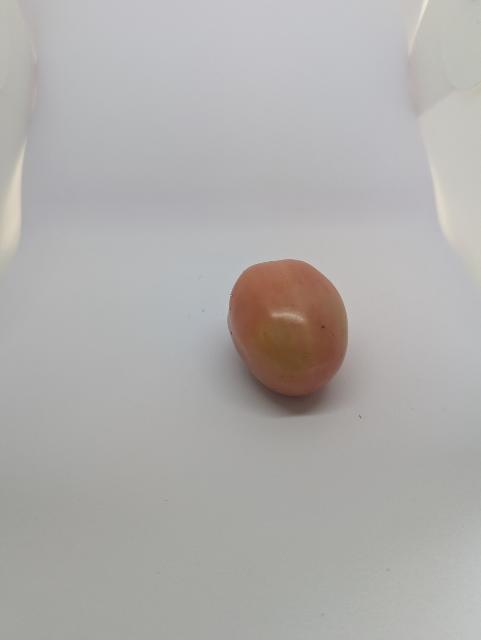turning: (224, 255, 357, 401)
